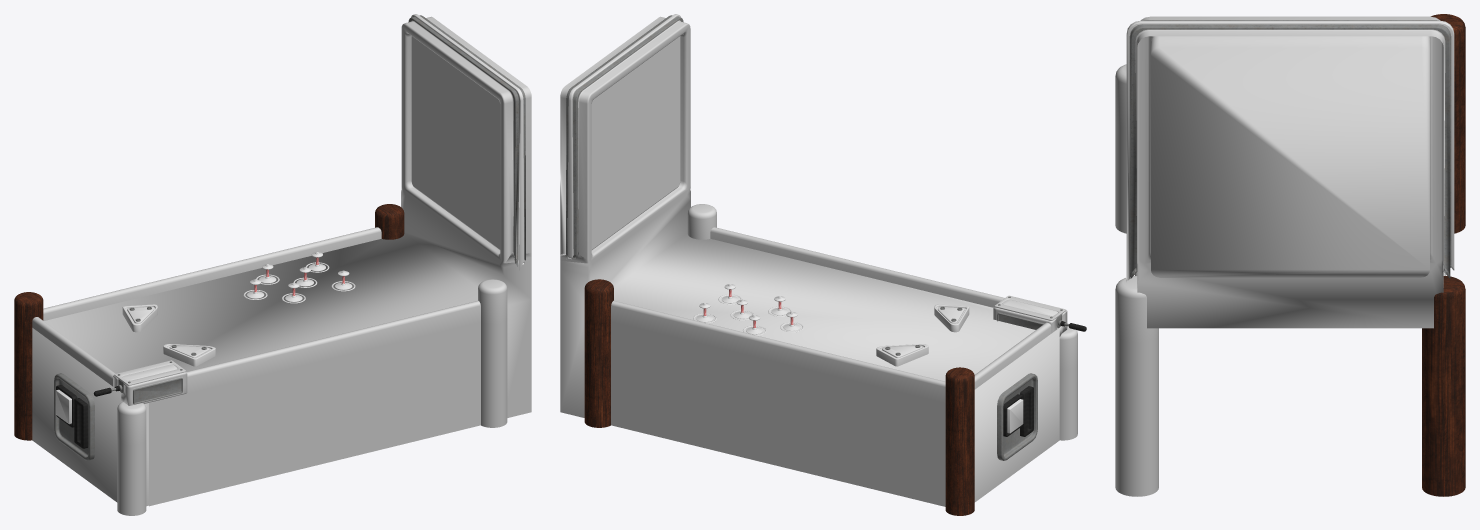
Rendered from Pinbull 1.fbx.
The picture shows the model from 3 angles, left to right: view 1: azimuth 30°, elevation 25°; view 2: azimuth 150°, elevation 25°; view 3: azimuth 270°, elevation 25°; orthographic projection. The views are drawn at different scales.
Visible parts, largest first — view 1: Cylinder.006, Plane.001, Box, Cube.002, trianglen.001, trianglen.002, Cube.003, Cube.004; view 2: Cylinder.006, Plane.001, Box, Cube.002, trianglen.002, trianglen.001, Cube.004; view 3: Cylinder.006.
Boxes of the visible parts, bbox=[...] form: Cylinder.006: bbox=[14, 14, 531, 515]; Plane.001: bbox=[411, 36, 500, 249]; Box: bbox=[113, 360, 187, 405]; Cube.002: bbox=[54, 373, 94, 460]; trianglen.001: bbox=[163, 344, 215, 366]; trianglen.002: bbox=[122, 304, 157, 332]; Cube.003: bbox=[74, 398, 88, 448]; Cube.004: bbox=[55, 385, 77, 427]; Cylinder.006: bbox=[560, 14, 1077, 515]; Plane.001: bbox=[591, 36, 680, 249]; Box: bbox=[993, 295, 1067, 336]; Cube.002: bbox=[997, 373, 1037, 460]; trianglen.002: bbox=[876, 344, 928, 366]; trianglen.001: bbox=[934, 304, 969, 332]; Cube.004: bbox=[1003, 394, 1023, 436]; Cylinder.006: bbox=[1115, 14, 1465, 496].
Bounding box in the file's own units: 477 × 345 × 226.
